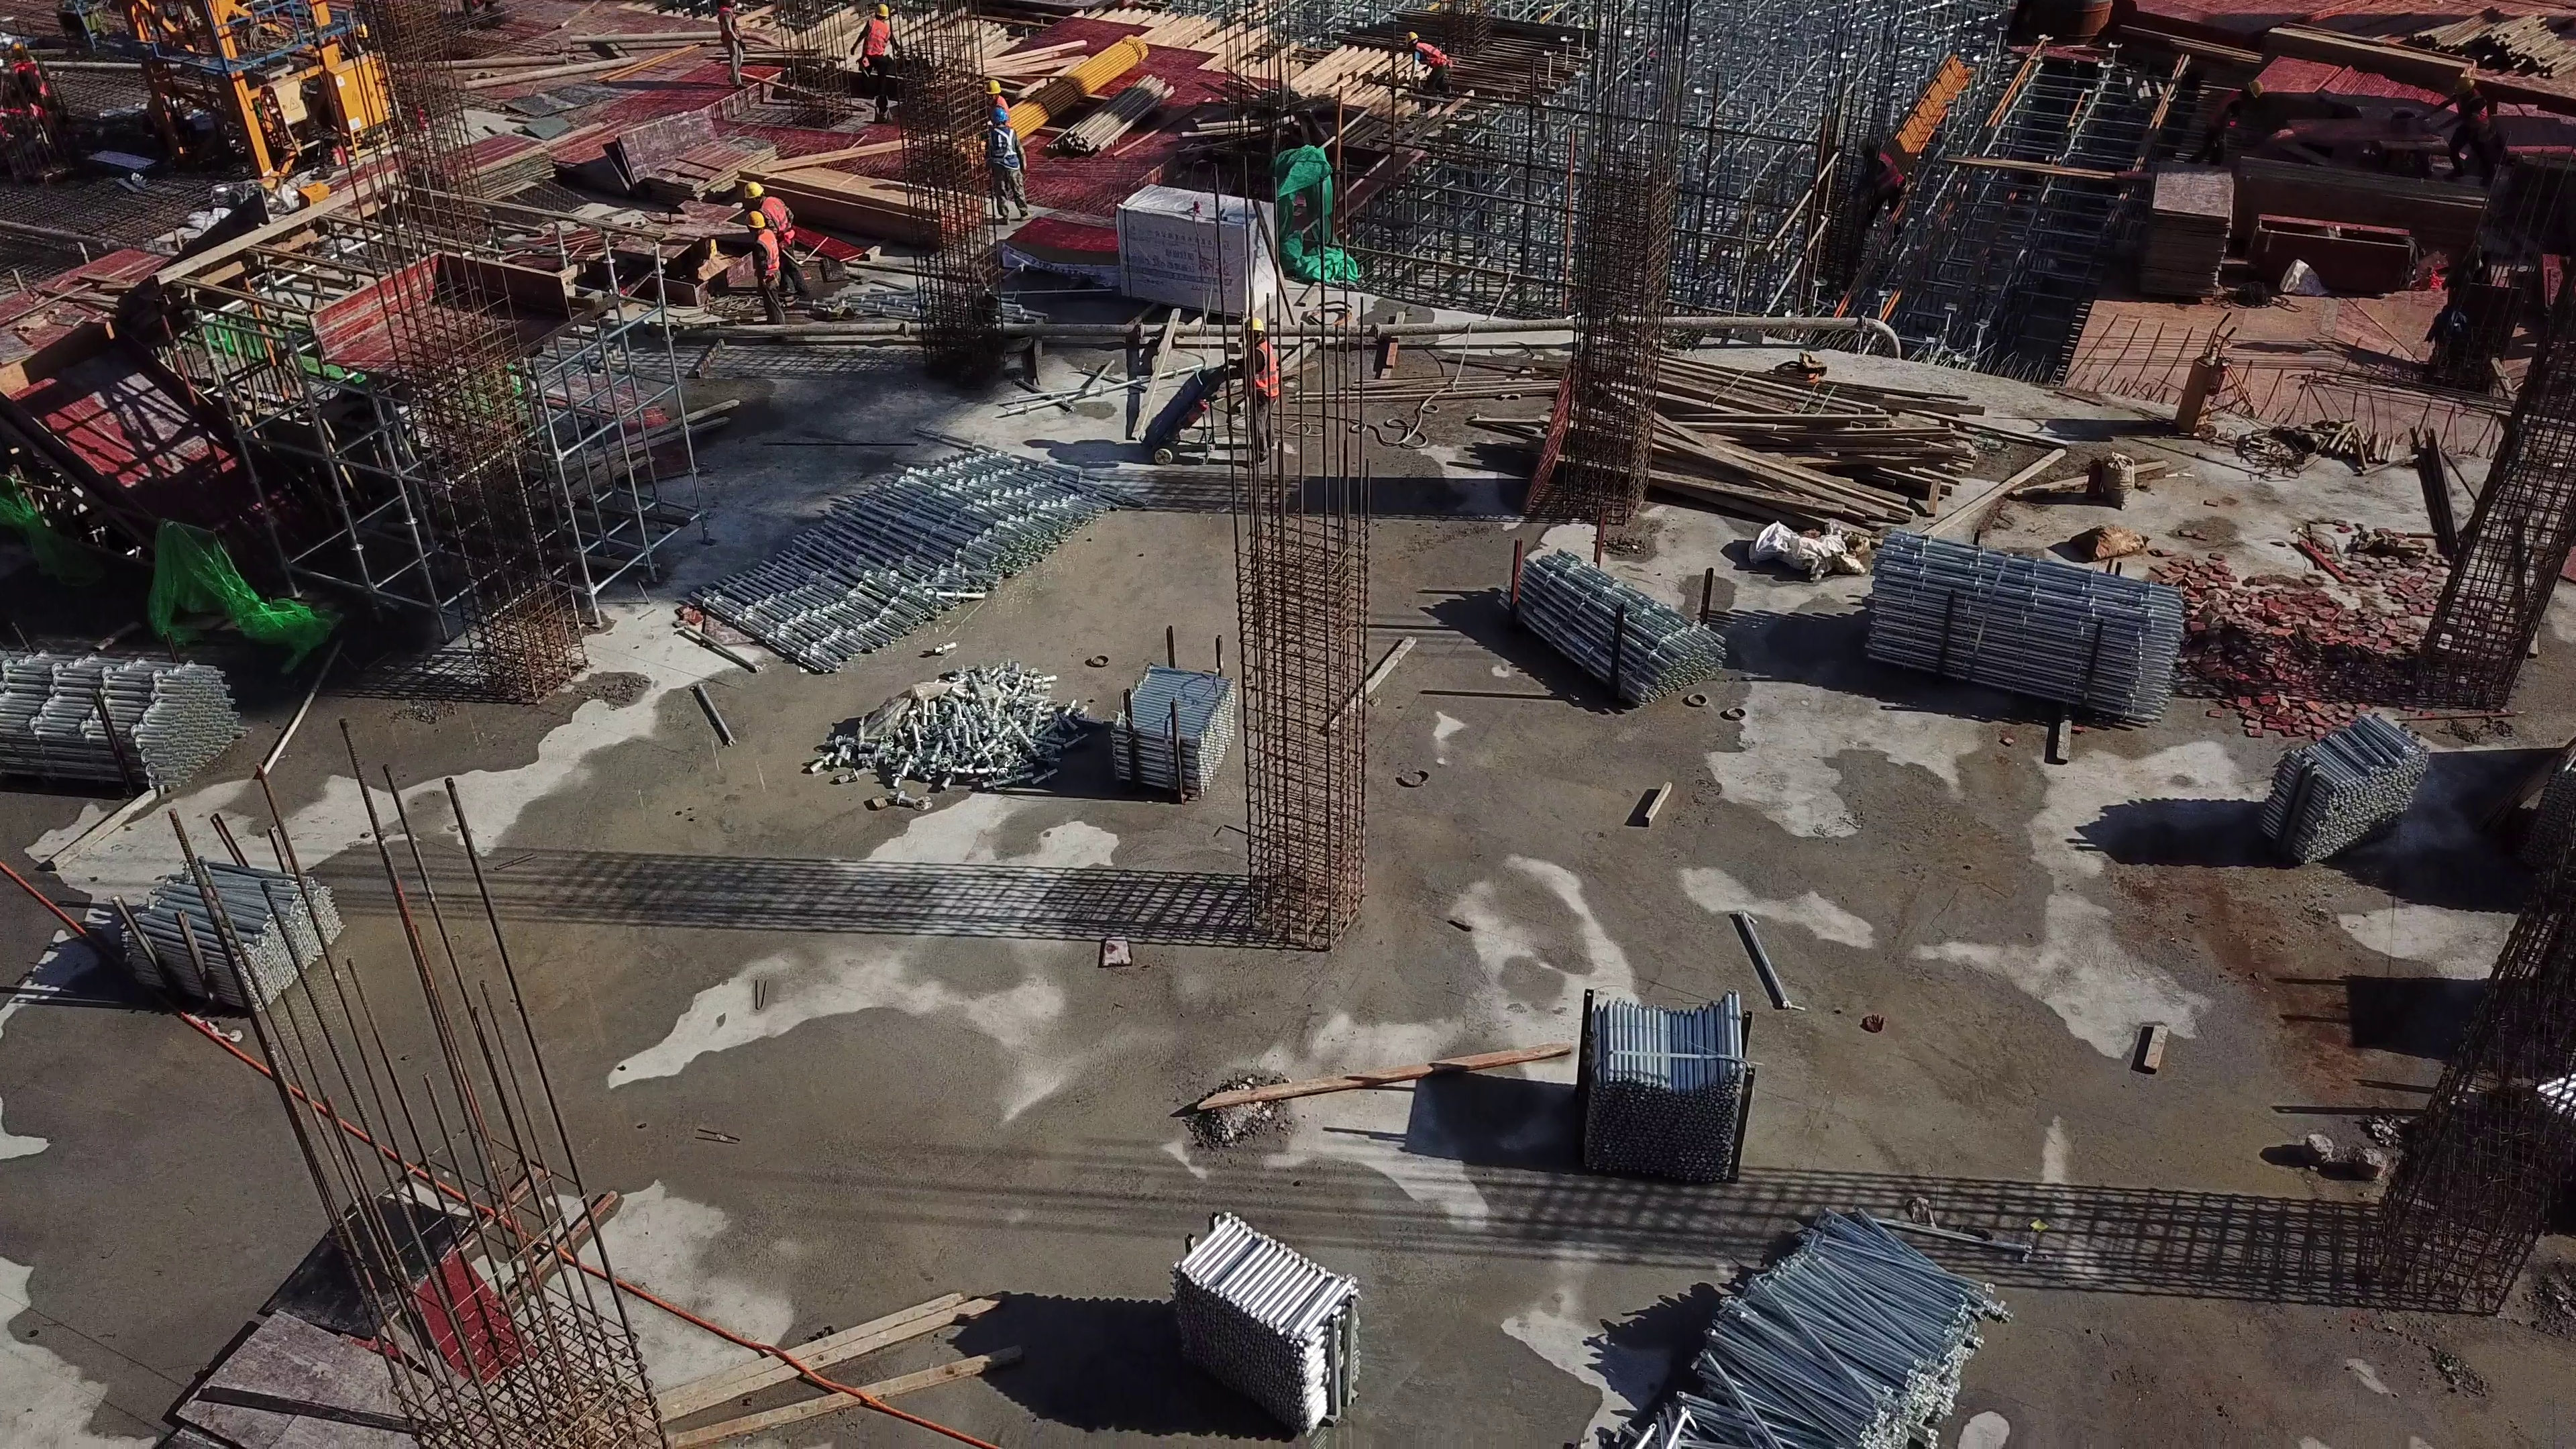helmet: (745, 180, 766, 200), (745, 210, 767, 229), (1243, 316, 1265, 333), (985, 77, 1002, 94), (2251, 79, 2265, 97), (2455, 78, 2473, 91), (875, 4, 889, 17), (1405, 30, 1419, 44), (992, 109, 1006, 122)
person: (1219, 317, 1280, 464), (745, 181, 810, 299), (2419, 77, 2494, 176), (2184, 80, 2260, 174), (848, 5, 900, 120), (985, 109, 1036, 227), (1859, 136, 1912, 225), (746, 211, 784, 321), (1405, 30, 1452, 93), (718, 3, 750, 87), (984, 78, 1014, 117)
vest: (1250, 341, 1279, 398), (994, 123, 1023, 168), (758, 230, 781, 280), (764, 197, 790, 243), (1874, 154, 1901, 193), (869, 17, 885, 61), (1419, 42, 1444, 68)
